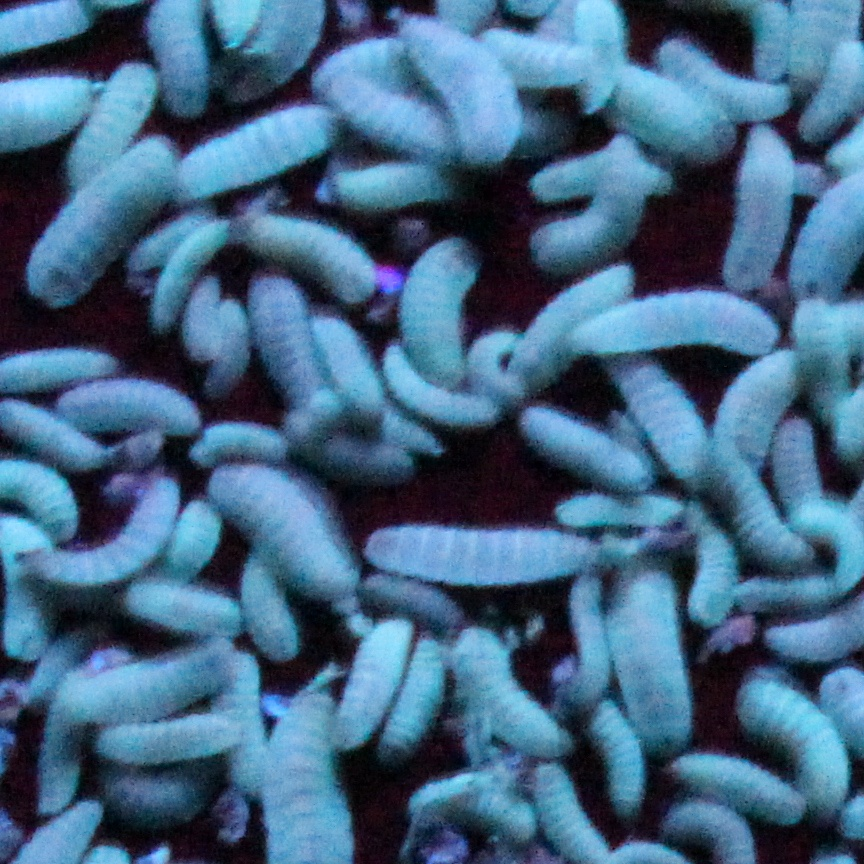larve: (19, 141, 165, 303), (208, 467, 357, 603), (392, 15, 512, 156), (18, 480, 176, 580), (175, 103, 330, 197), (710, 129, 791, 303), (520, 267, 630, 395), (622, 553, 692, 751), (368, 528, 602, 586), (458, 628, 558, 761), (572, 284, 781, 346), (241, 297, 346, 420), (707, 454, 815, 571), (62, 67, 162, 193), (743, 679, 841, 807), (70, 637, 226, 717), (374, 340, 507, 431), (538, 152, 653, 256), (520, 402, 649, 489), (240, 211, 365, 297), (402, 239, 476, 380), (591, 62, 716, 145), (148, 208, 227, 335), (715, 354, 804, 461), (640, 374, 723, 486), (337, 618, 407, 740), (674, 758, 807, 822), (330, 80, 443, 155), (87, 765, 231, 822), (660, 46, 784, 111), (413, 775, 537, 839), (471, 26, 595, 90), (50, 380, 207, 430), (37, 677, 94, 812), (584, 697, 653, 807), (307, 310, 374, 423), (785, 303, 851, 415), (340, 404, 443, 464), (390, 635, 443, 748), (124, 581, 244, 630), (227, 655, 268, 797), (243, 555, 295, 661), (526, 153, 676, 188), (307, 35, 412, 83), (365, 577, 462, 628), (187, 419, 283, 469), (101, 721, 237, 756), (322, 162, 444, 198), (169, 497, 217, 580), (548, 495, 682, 522), (700, 518, 730, 620), (215, 293, 237, 412)
